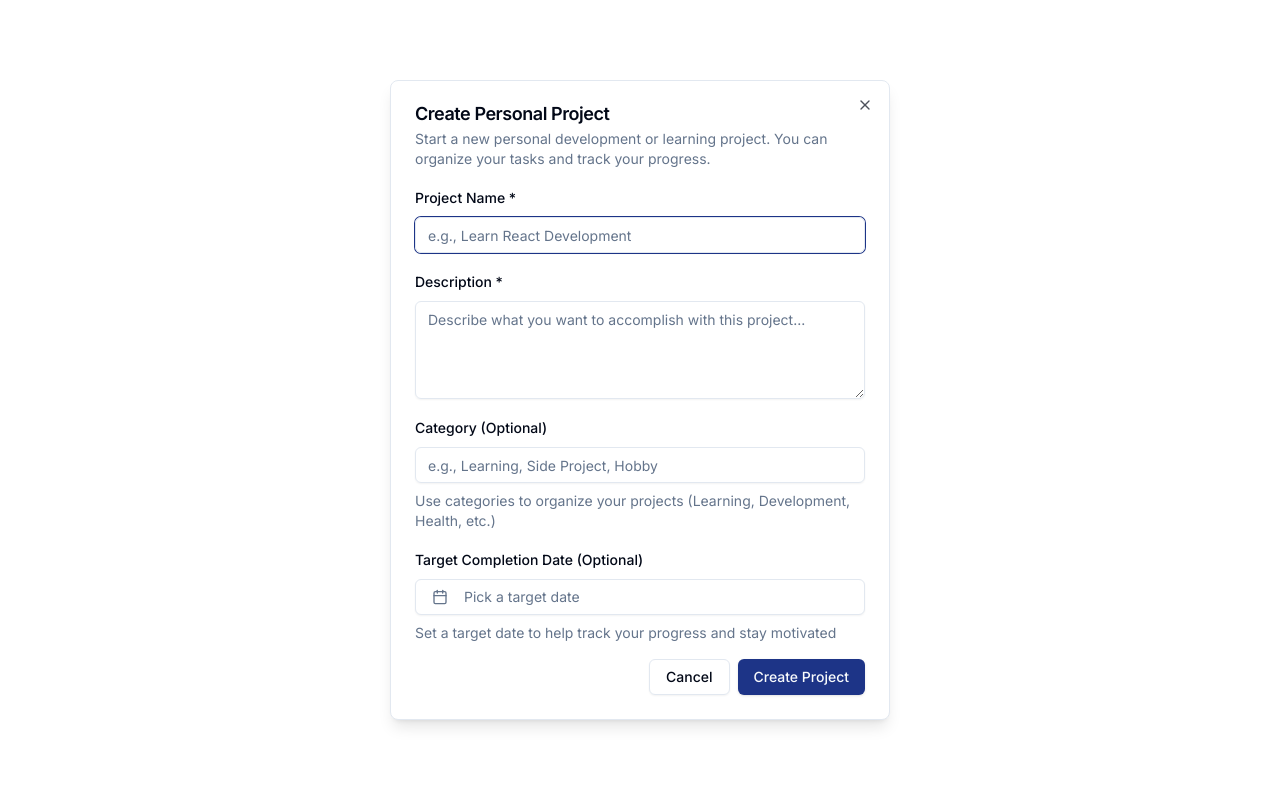
Test: CreateProjectDialog › handles validation errors from API
The image size is (1280, 800).
// Fill in the form
In the field labelled "Project Name *": (640, 235) [415, 217, 865, 253], type "Test Project"
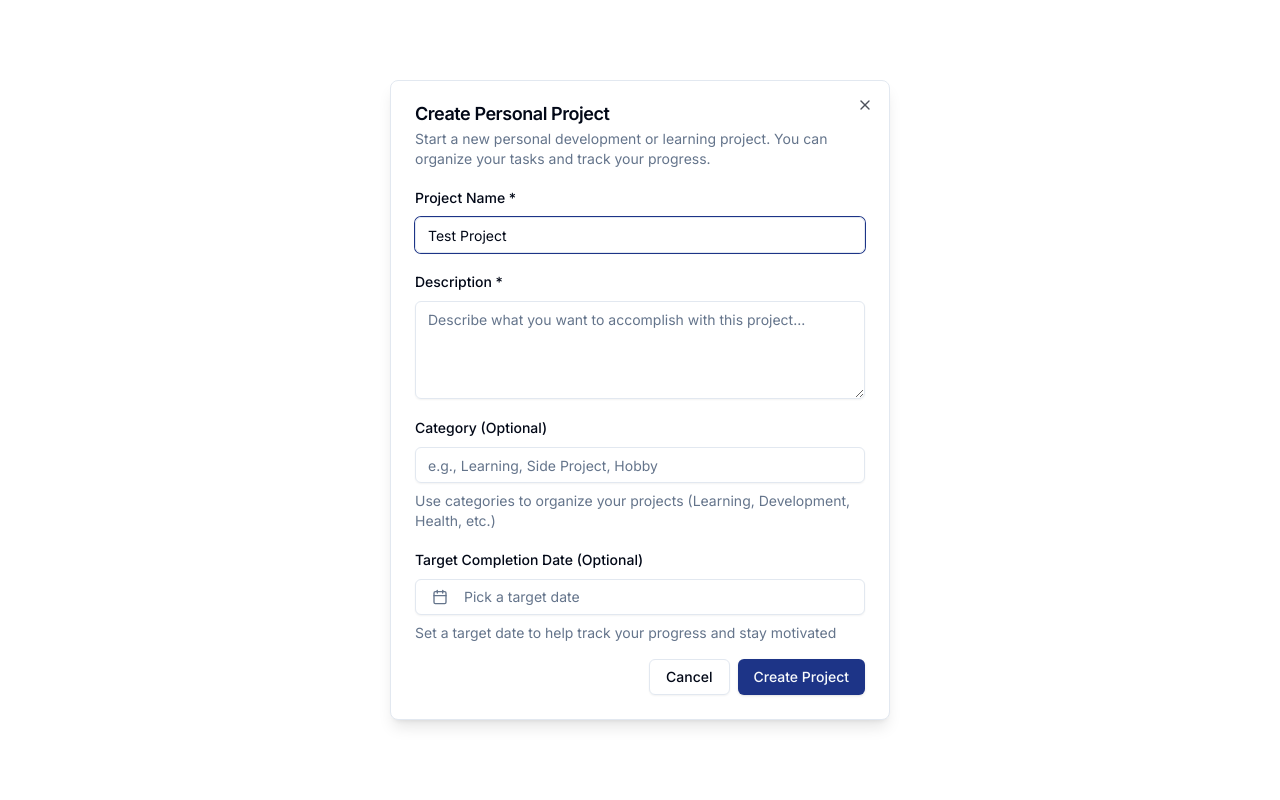
In the text box labelled "Description *": (640, 350) [415, 301, 865, 399], type "Test Description"
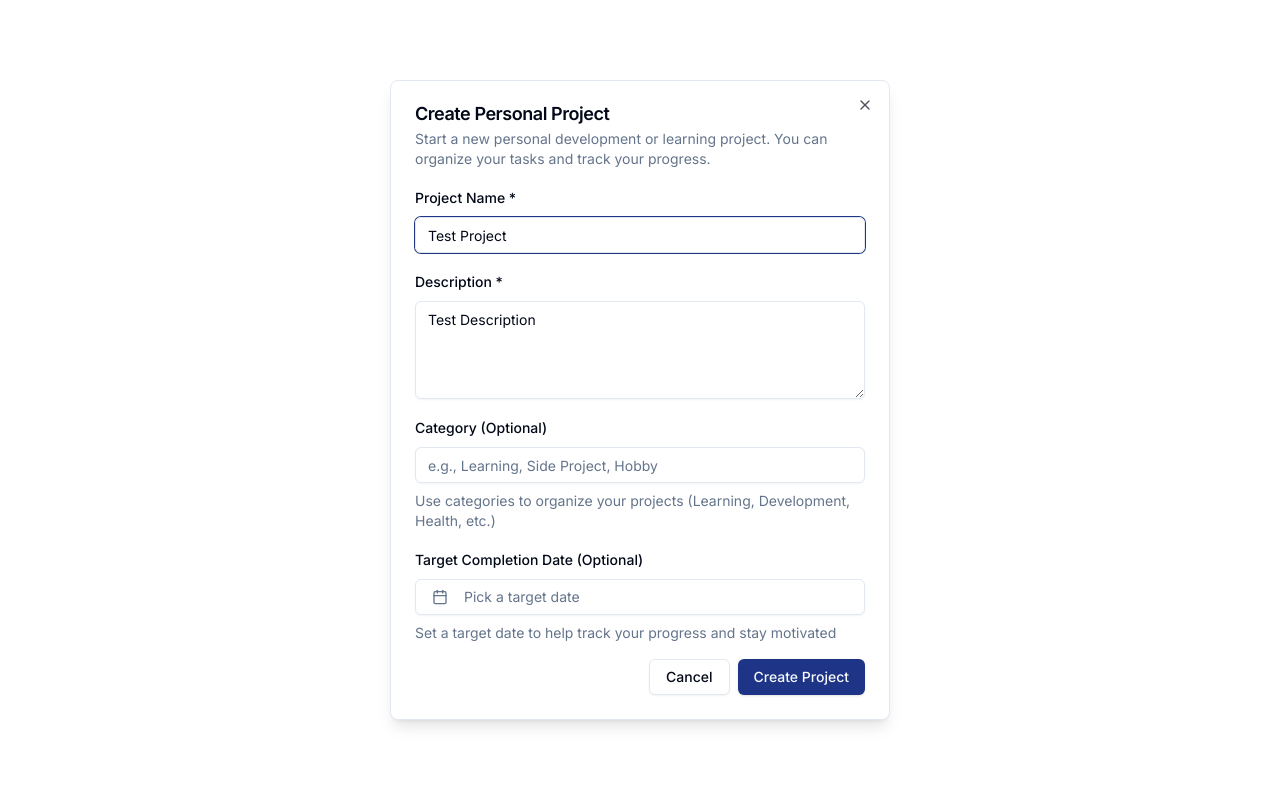
// Submit the form
Click the button "Create Project": click(801, 677) [738, 659, 865, 695]
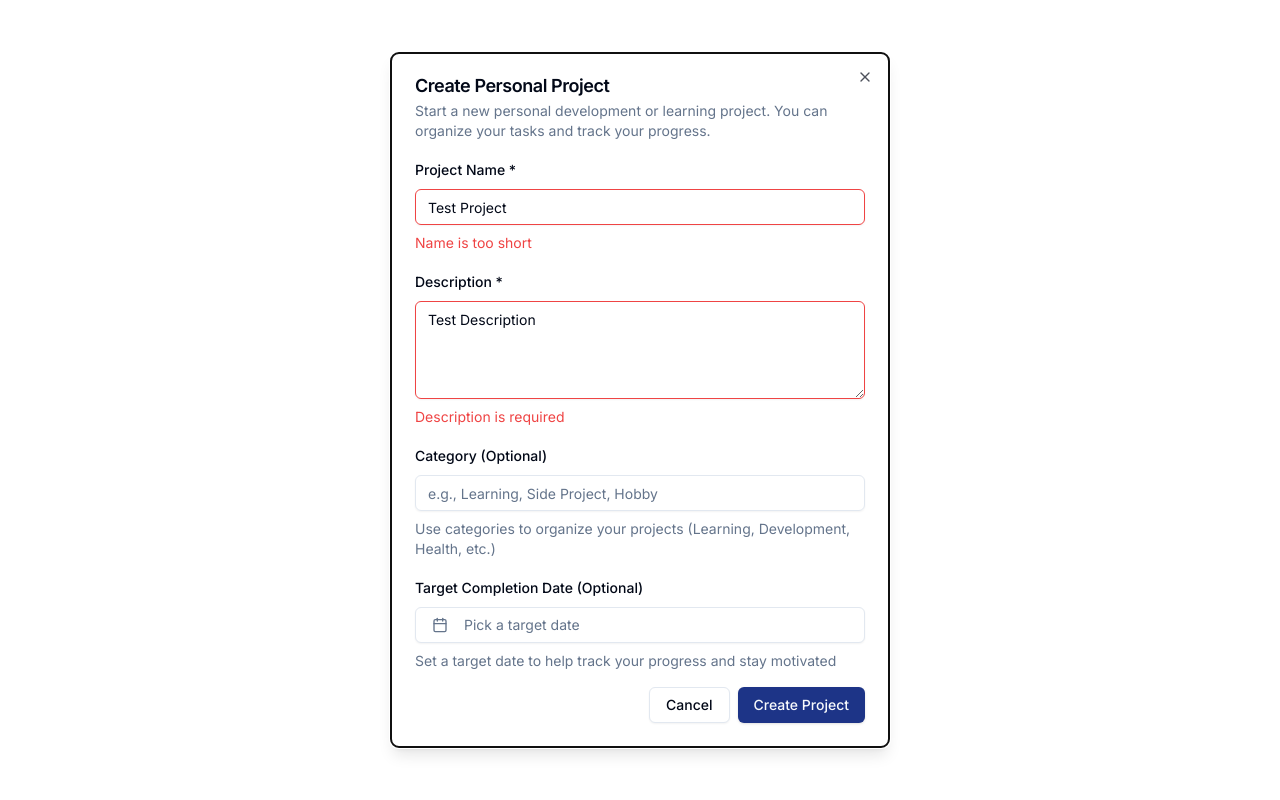
Result: the text "Name is too short" is shown at [415, 234, 532, 251]
Result: the text "Description is required" is shown at [415, 408, 564, 425]
